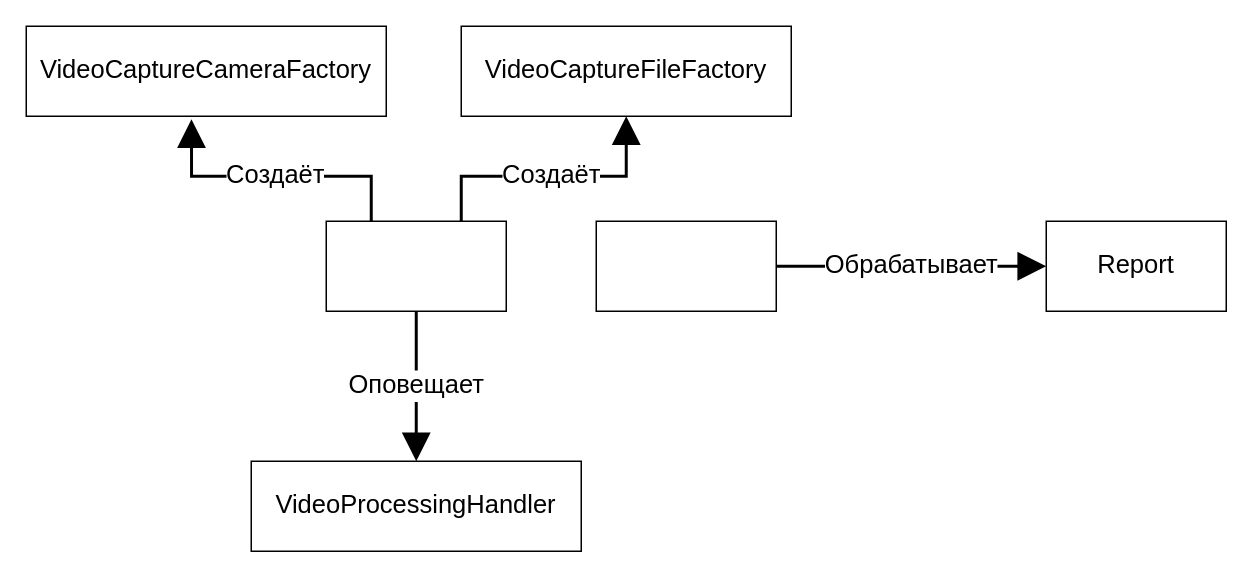
The diagram is 1253 pixels wide and 578 high, and some of its shapes have lost their labels. The shapes that lost their labels are listed below. From the top down, each one's centre as x and y in pixels, then its label:
[415,265]: VideoService
[685,265]: ReportService
